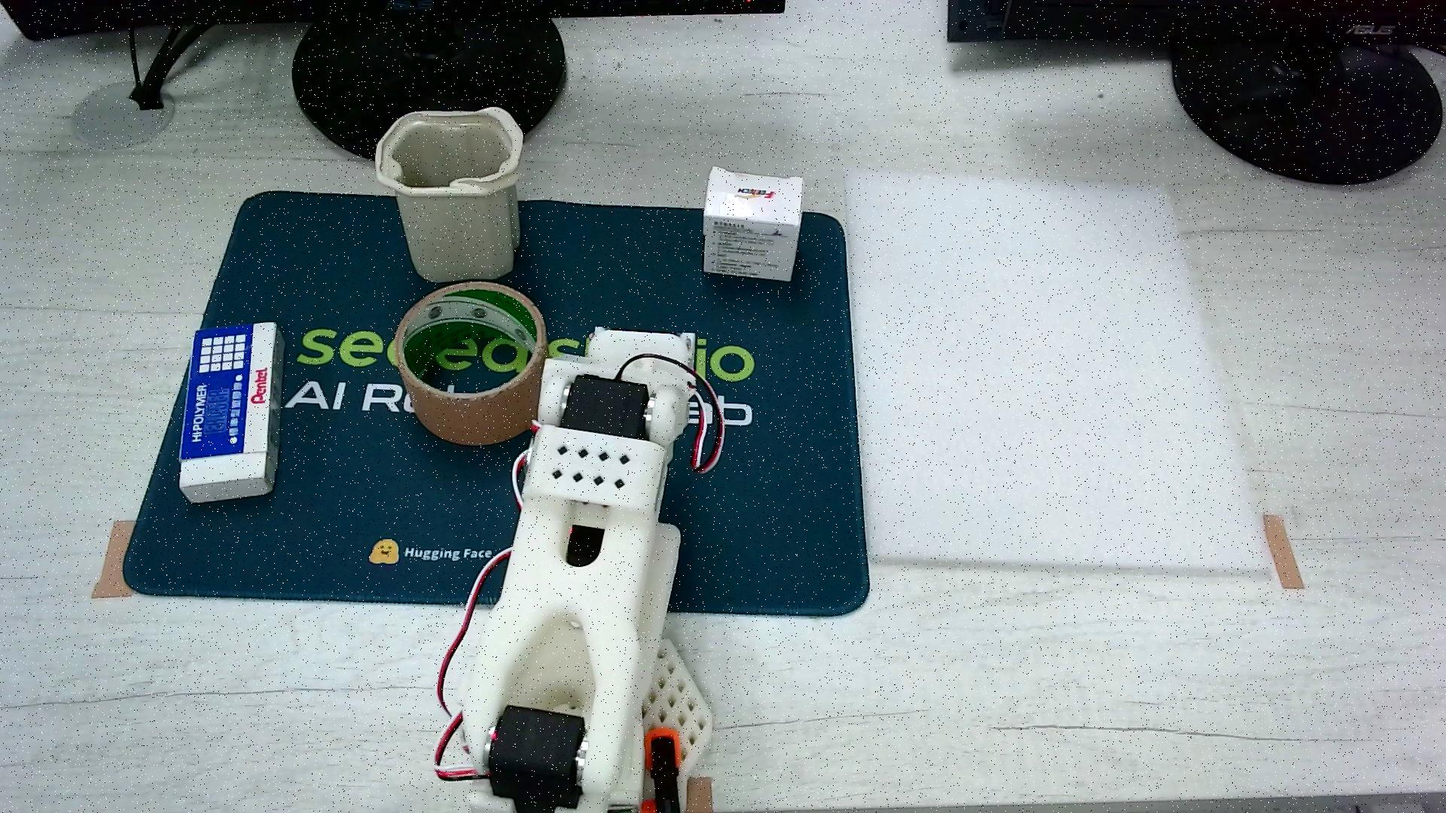eraser: (703, 166, 801, 280)
